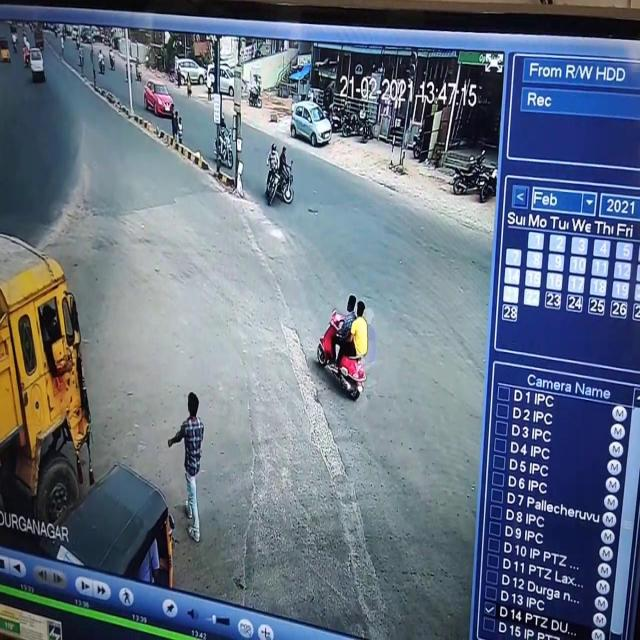accident: (261, 132, 297, 212)
